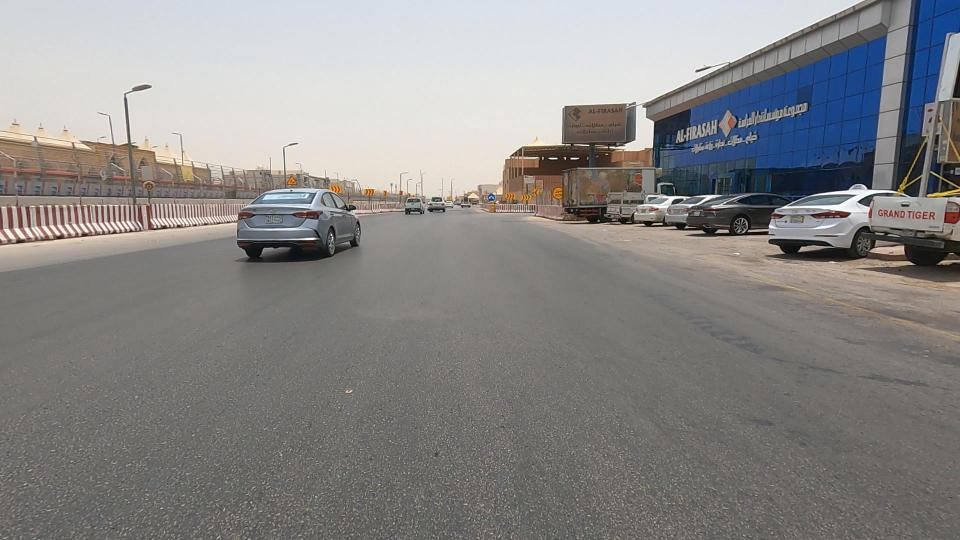BAD_BILLBOARD: (524, 76, 661, 171)
CONSTRUCTION_ROAD: (0, 132, 185, 265), (119, 140, 281, 258), (445, 169, 556, 232), (333, 168, 414, 230)
